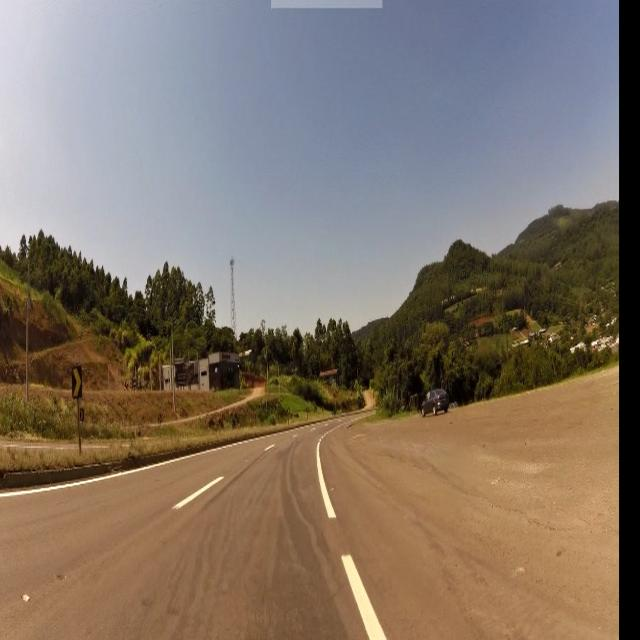Del: (71, 370, 84, 398)
